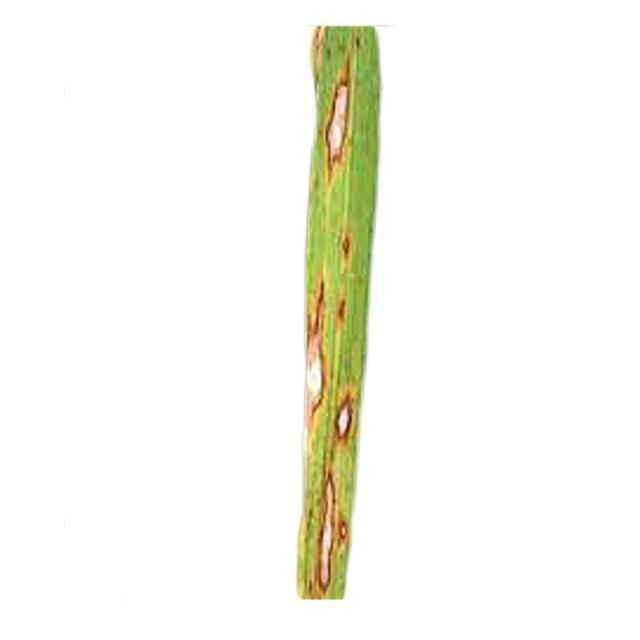Leaf_Blast: (314, 30, 365, 191), (311, 466, 358, 597), (296, 323, 333, 432), (332, 227, 364, 346), (324, 388, 369, 451)
